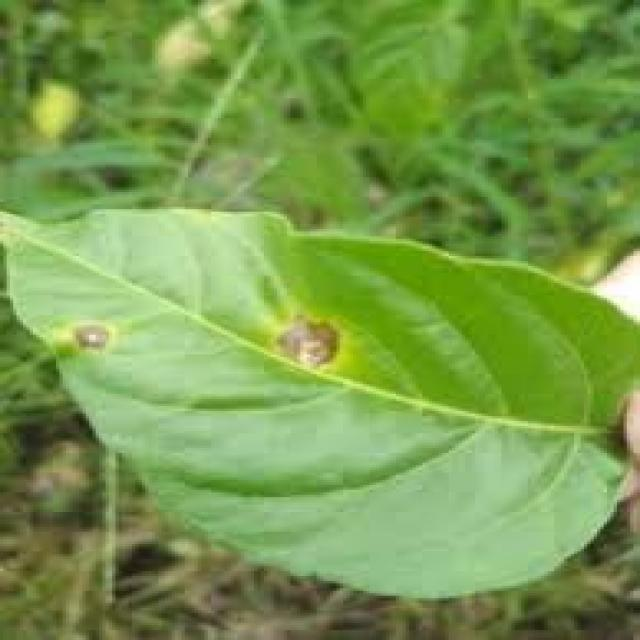bercak_daun: (0, 180, 640, 606)
